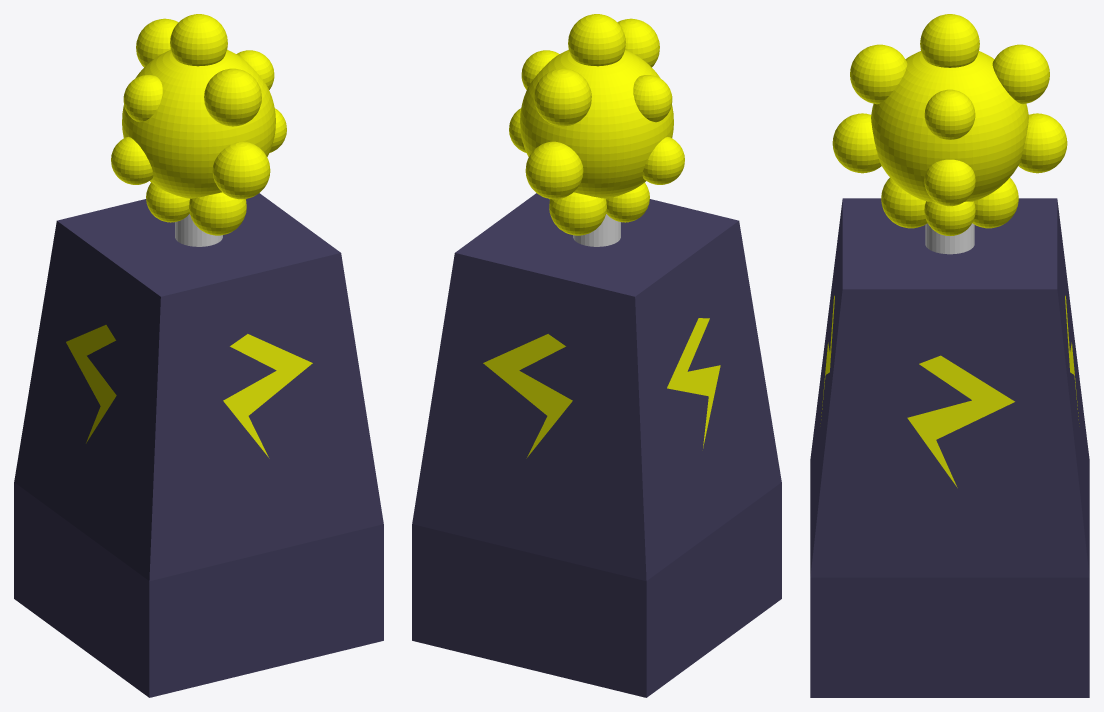
File: TowerDoubleLighting.fbx
3 views of the same model, side by side, from view 1: azimuth 30°, elevation 25°; view 2: azimuth 150°, elevation 25°; view 3: azimuth 270°, elevation 25° (orthographic). The views are drawn at different scales.
Parts seen in each view (by area): view 1: Tower, Sphere, Sphere.002, Sphere.001, Icon, Icon.001, Prop; view 2: Tower, Sphere, Sphere.002, Sphere.001, Icon, Icon.001, Prop; view 3: Tower, Sphere.002, Sphere, Sphere.001, Icon.001, Prop, Icon.
Boxes of the visible parts, <box> form: Tower: <box>14,193,383,697</box>; Sphere: <box>122,50,275,198</box>; Sphere.002: <box>136,14,270,235</box>; Sphere.001: <box>111,50,286,222</box>; Icon: <box>223,334,312,458</box>; Icon.001: <box>66,325,116,443</box>; Prop: <box>175,214,222,246</box>; Tower: <box>412,193,781,697</box>; Sphere: <box>520,50,673,198</box>; Sphere.002: <box>525,14,659,235</box>; Sphere.001: <box>509,50,684,222</box>; Icon: <box>483,334,572,458</box>; Icon.001: <box>667,318,720,448</box>; Prop: <box>573,214,620,246</box>; Tower: <box>810,198,1089,697</box>; Sphere.002: <box>832,14,1067,228</box>; Sphere: <box>871,51,1028,201</box>; Sphere.001: <box>924,89,975,235</box>; Icon.001: <box>907,355,1014,487</box>; Prop: <box>925,223,974,254</box>; Icon: <box>820,295,1079,423</box>.
Size of the model in its own units: 280 by 688 by 280.
